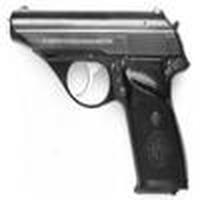gun: (5, 10, 186, 193)
